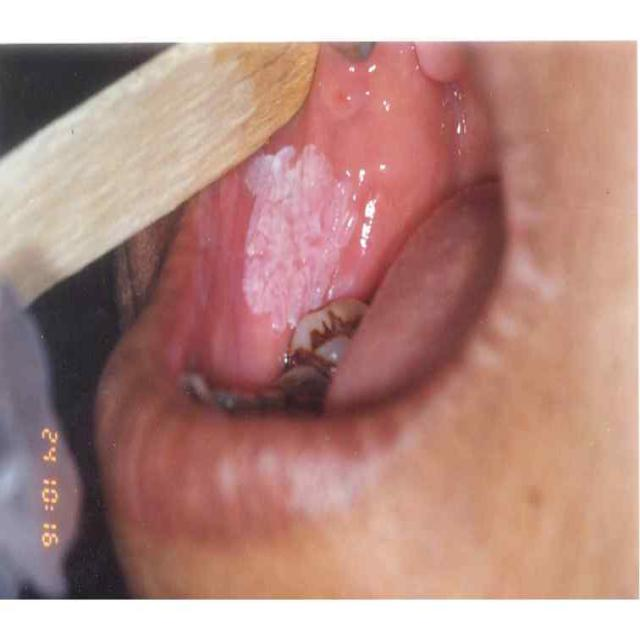leukoplakia-detection: (239, 141, 360, 335)
processing_area: (179, 45, 495, 394)
